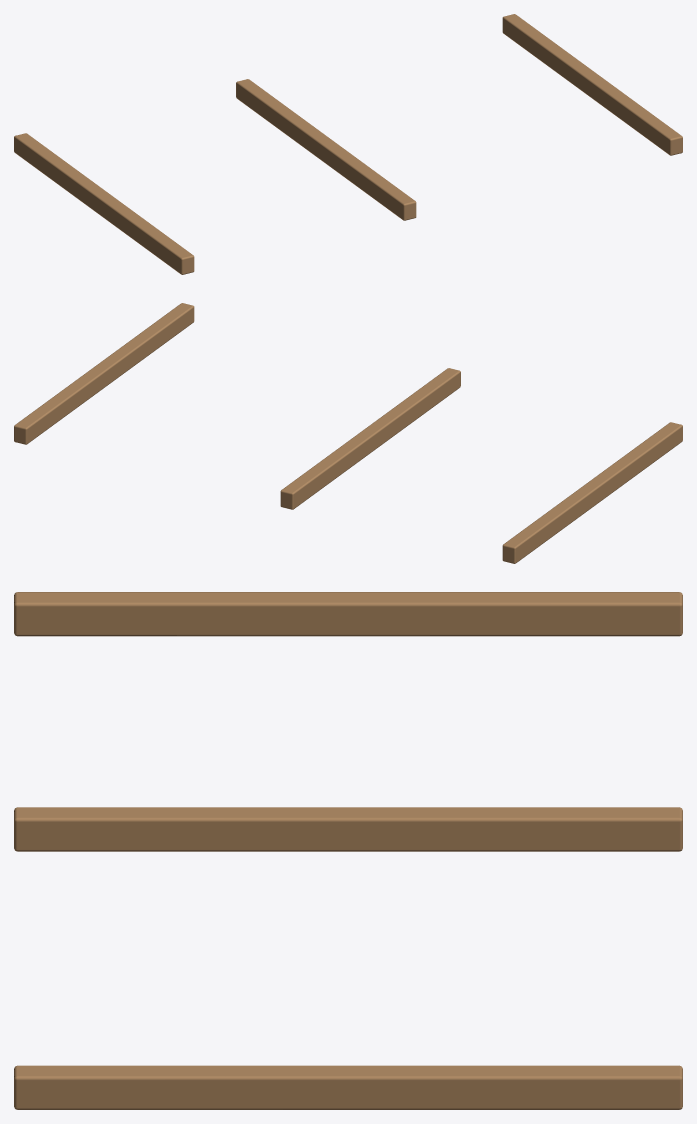
Rendered from Roof_Beams.fbx.
The picture shows the model from 3 angles, top to bottom: view 1: azimuth 30°, elevation 25°; view 2: azimuth 150°, elevation 25°; view 3: azimuth 270°, elevation 25°; orthographic projection. The views are drawn at different scales.
Parts seen in each view (by area): view 1: Roof_Beams_Mesh; view 2: Roof_Beams_Mesh; view 3: Roof_Beams_Mesh.
Part boxes in pixels (x1=…): Roof_Beams_Mesh: x1=14, y1=14, x2=682, y2=274; Roof_Beams_Mesh: x1=14, y1=303, x2=682, y2=563; Roof_Beams_Mesh: x1=14, y1=592, x2=682, y2=1109.
Bounding box in the file's own units: 3.39 × 0.11 × 1.97.
